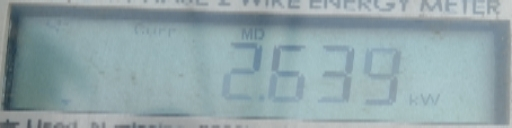3: (314, 39, 355, 104), (221, 39, 261, 101)
5: (266, 38, 311, 103)
9: (362, 42, 400, 105)
d: (252, 85, 269, 105)
